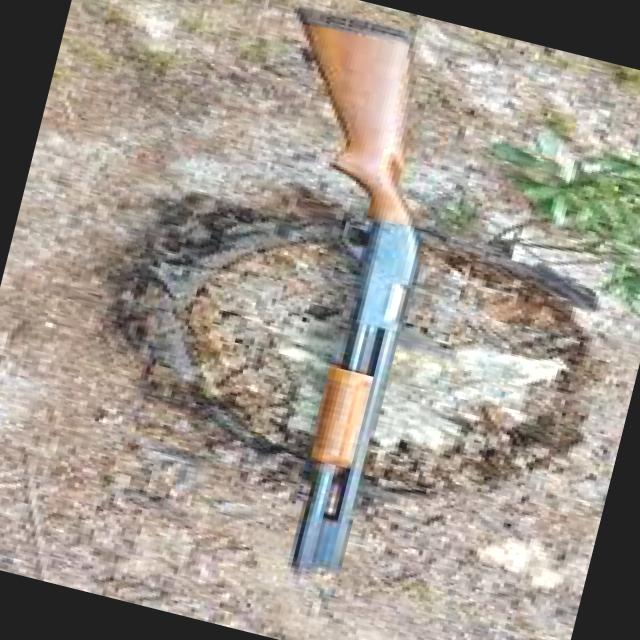long weapon: (271, 0, 434, 583)
